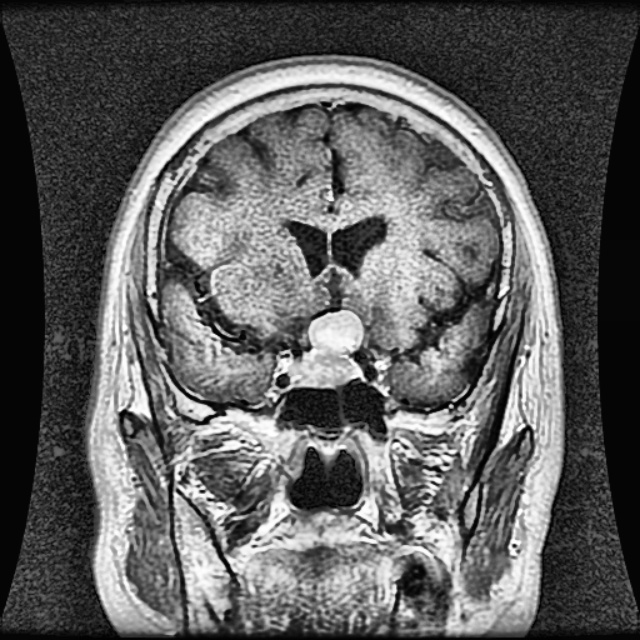Pituitary: (292, 309, 362, 383)
